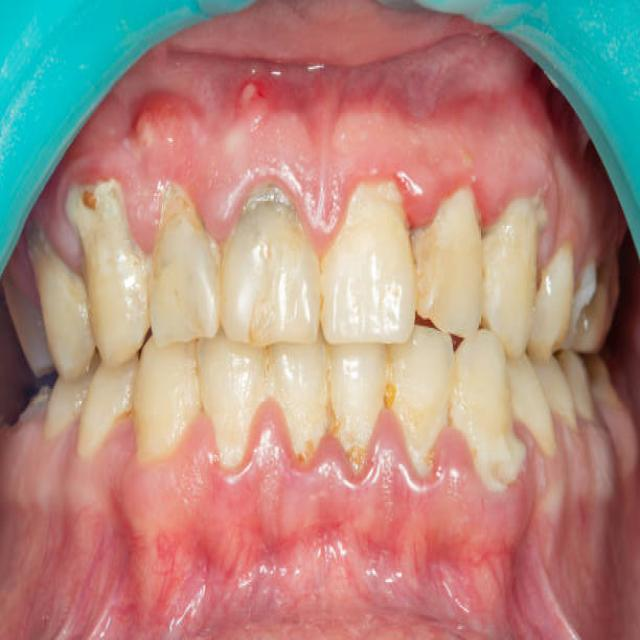Gingivitis: (230, 41, 518, 122), (130, 94, 192, 148)
